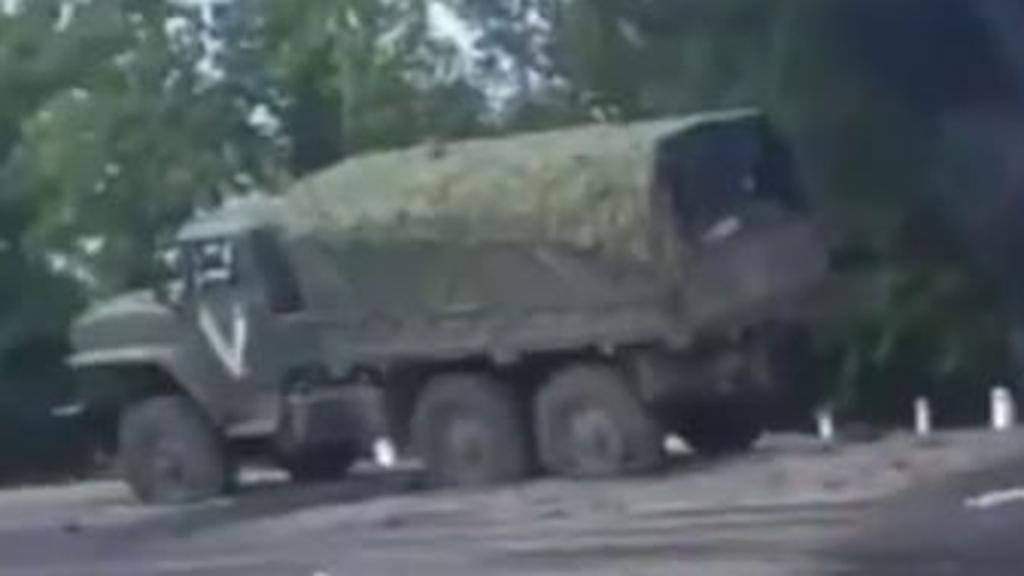TRUCK: (54, 101, 782, 500)
